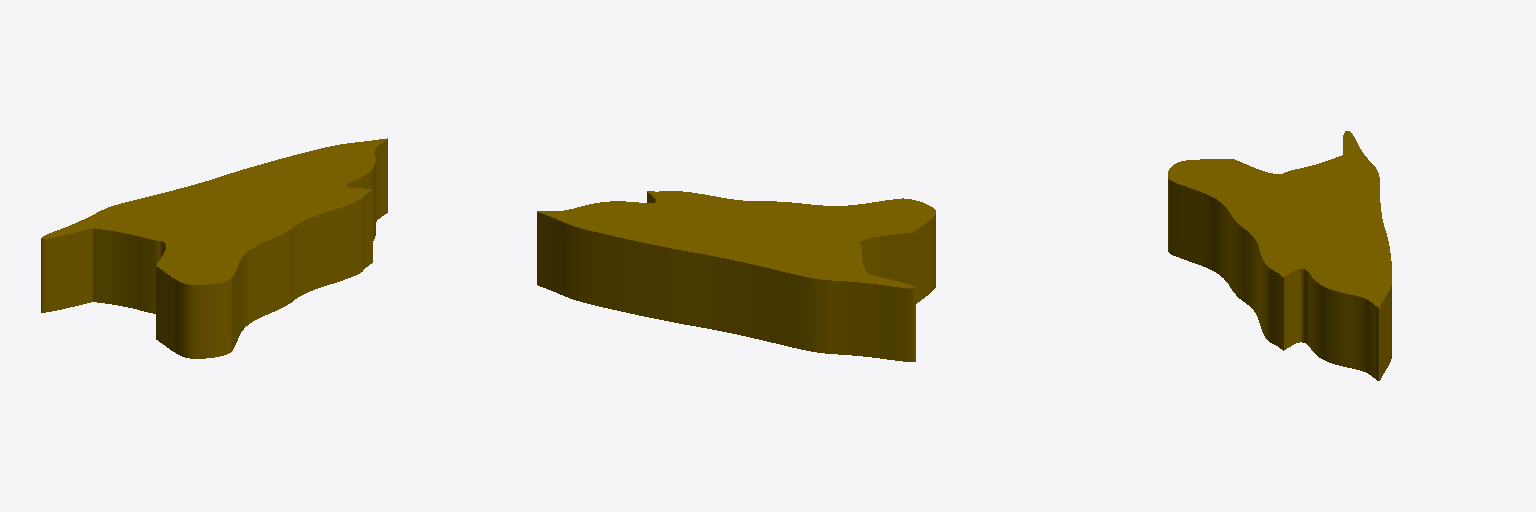
File: North_America_05.obj
3 renders of one model, left to right at view 1: azimuth 30°, elevation 25°; view 2: azimuth 150°, elevation 25°; view 3: azimuth 270°, elevation 25°, orthographic.
Visible parts, largest first — view 1: North_America_05_path4200; view 2: North_America_05_path4200; view 3: North_America_05_path4200.
Part boxes in pixels (bbox=[...]): North_America_05_path4200: bbox=[41, 138, 387, 358]; North_America_05_path4200: bbox=[537, 191, 935, 361]; North_America_05_path4200: bbox=[1168, 131, 1391, 380].
Bounding box in the file's own units: 0.5162 × 0.1 × 0.277.